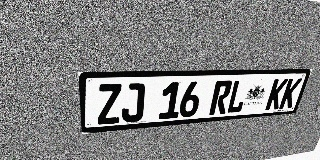1: (159, 82, 183, 119)
6: (178, 81, 203, 118)
J: (121, 83, 145, 123)
K: (265, 79, 289, 110), (278, 78, 302, 109)
L: (226, 80, 250, 114)
R: (209, 80, 233, 115)
Z: (97, 84, 122, 125)
